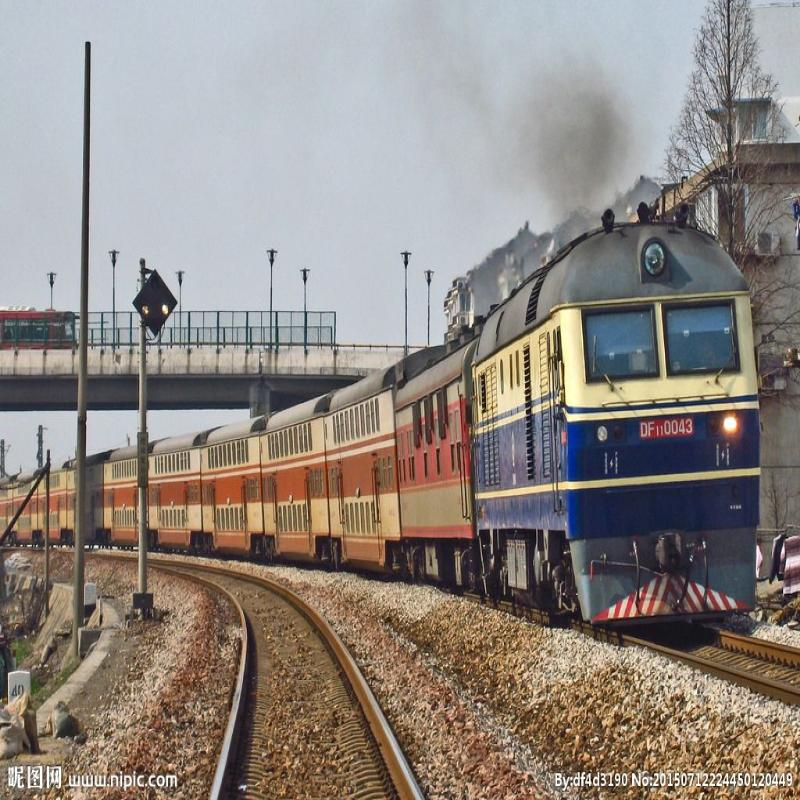train: (143, 209, 752, 686)
